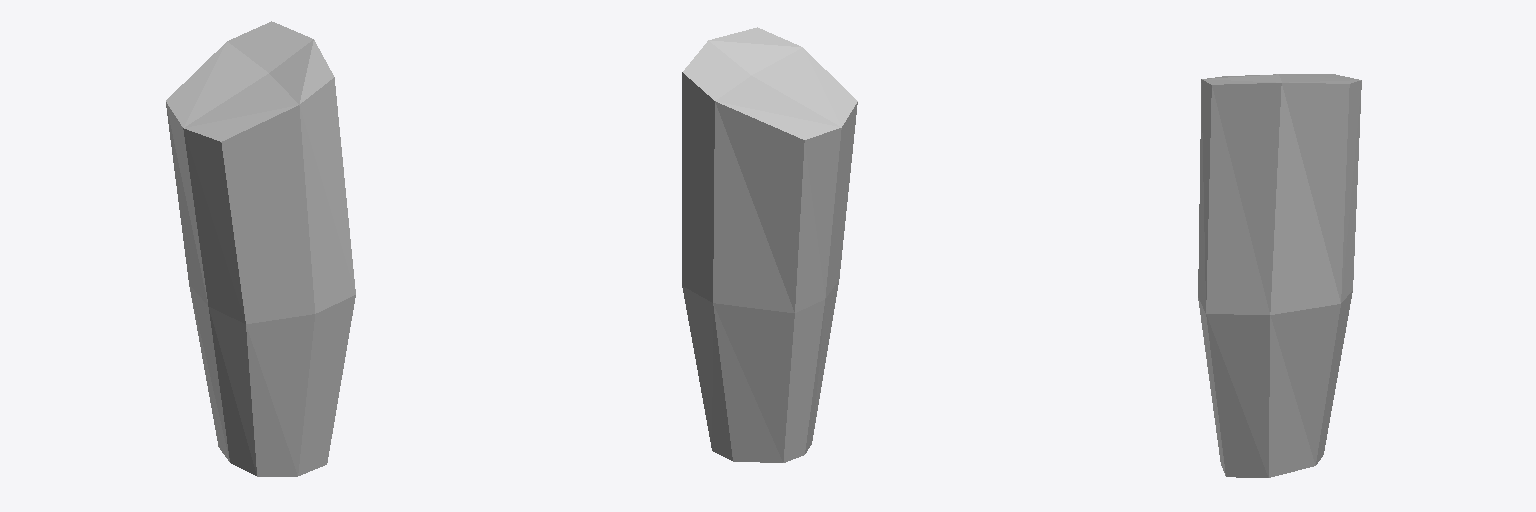
Rendered from LegL.obj.
3 views of the same model, side by side, from view 1: azimuth 30°, elevation 25°; view 2: azimuth 150°, elevation 25°; view 3: azimuth 270°, elevation 25° (orthographic).
Visible parts, largest first — view 1: LegL_Cube.013; view 2: LegL_Cube.013; view 3: LegL_Cube.013.
Boxes of the visible parts, x1=… form: LegL_Cube.013: x1=166, y1=21, x2=355, y2=476; LegL_Cube.013: x1=682, y1=27, x2=857, y2=462; LegL_Cube.013: x1=1198, y1=74, x2=1361, y2=477.
Bounding box in the file's own units: 0.1801 × 0.4745 × 0.1745.